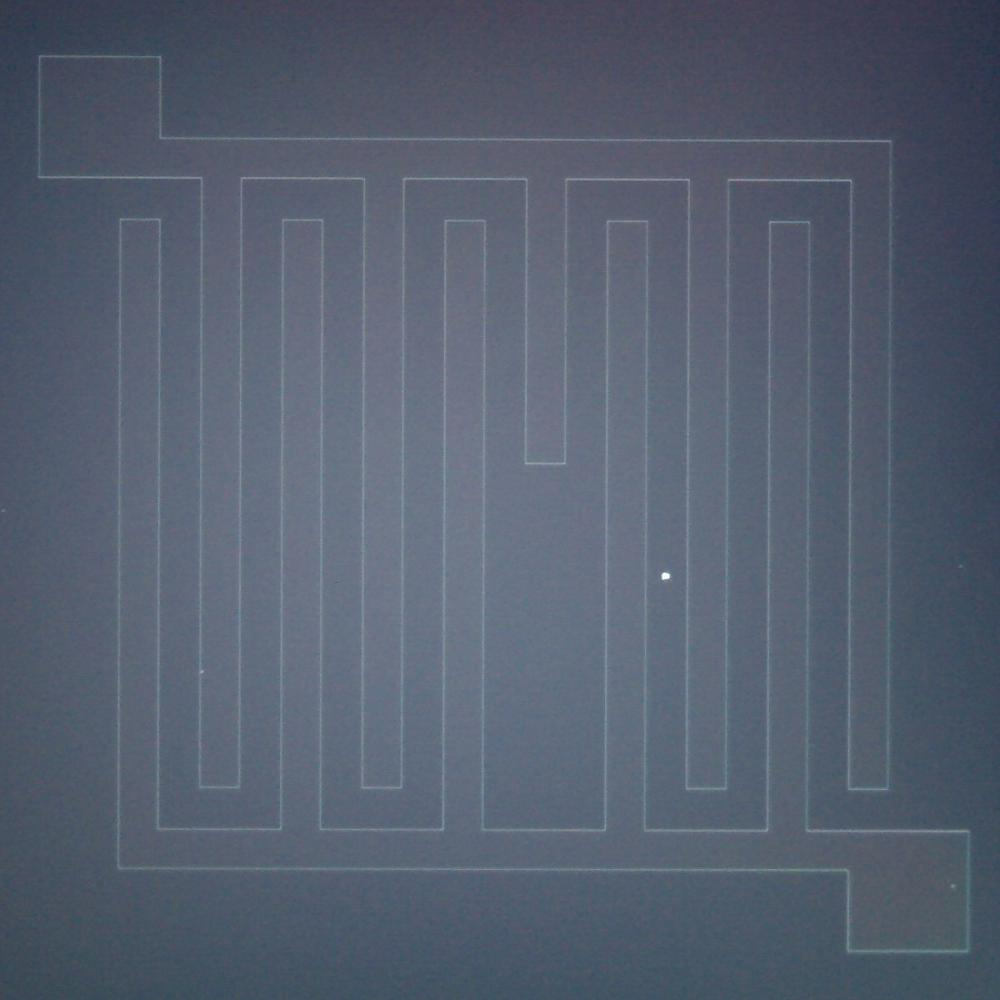dot: (662, 572, 670, 581), (950, 883, 956, 889)
